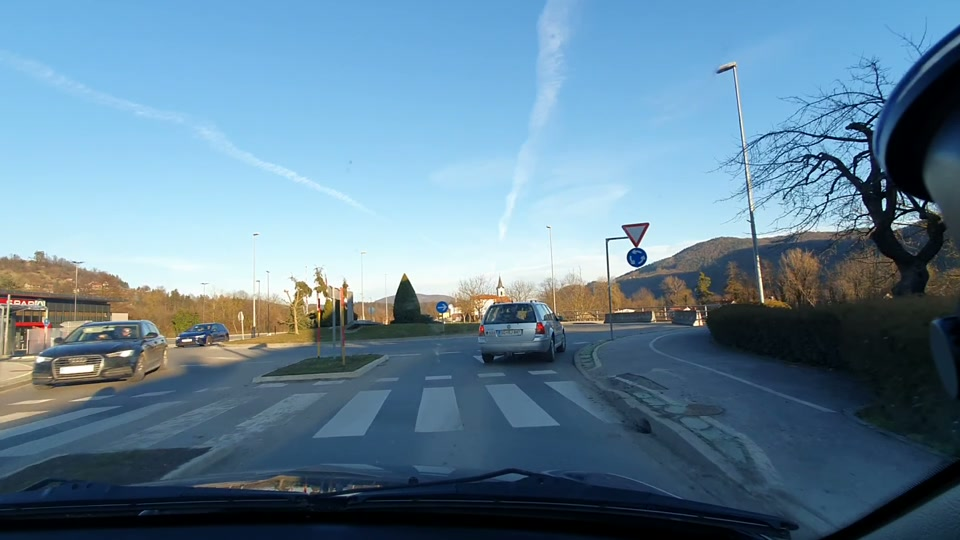vehicle_ign: (475, 294, 566, 363)
vehicle_s: (32, 315, 169, 386), (176, 320, 231, 348)
